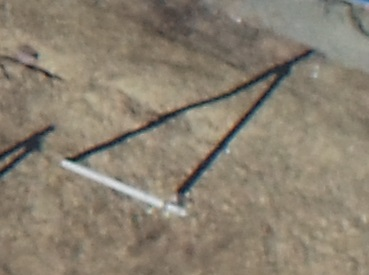opora: (60, 132, 194, 217)
